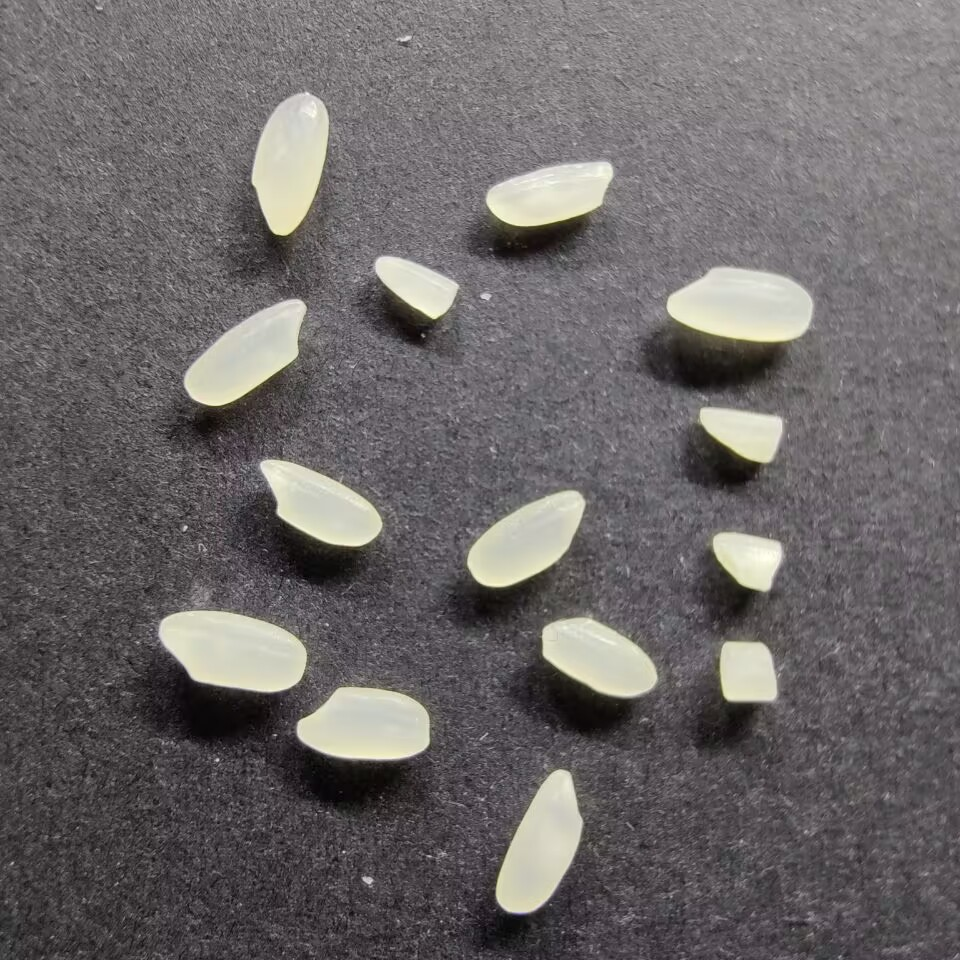broken: (369, 251, 461, 320), (696, 406, 785, 465), (711, 530, 786, 593), (716, 639, 781, 704)
rice: (491, 766, 586, 916), (182, 296, 307, 408), (156, 609, 310, 694), (259, 456, 385, 551), (249, 91, 330, 238), (467, 490, 584, 589), (666, 266, 815, 341), (295, 684, 432, 761), (539, 616, 660, 698), (484, 158, 615, 229)
